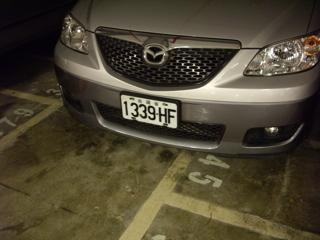plate: (117, 91, 178, 130)
